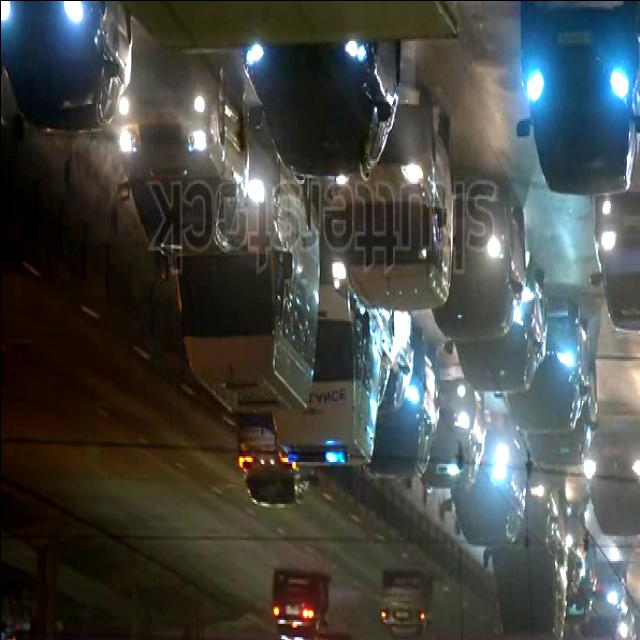ambulance: (265, 246, 381, 467)
